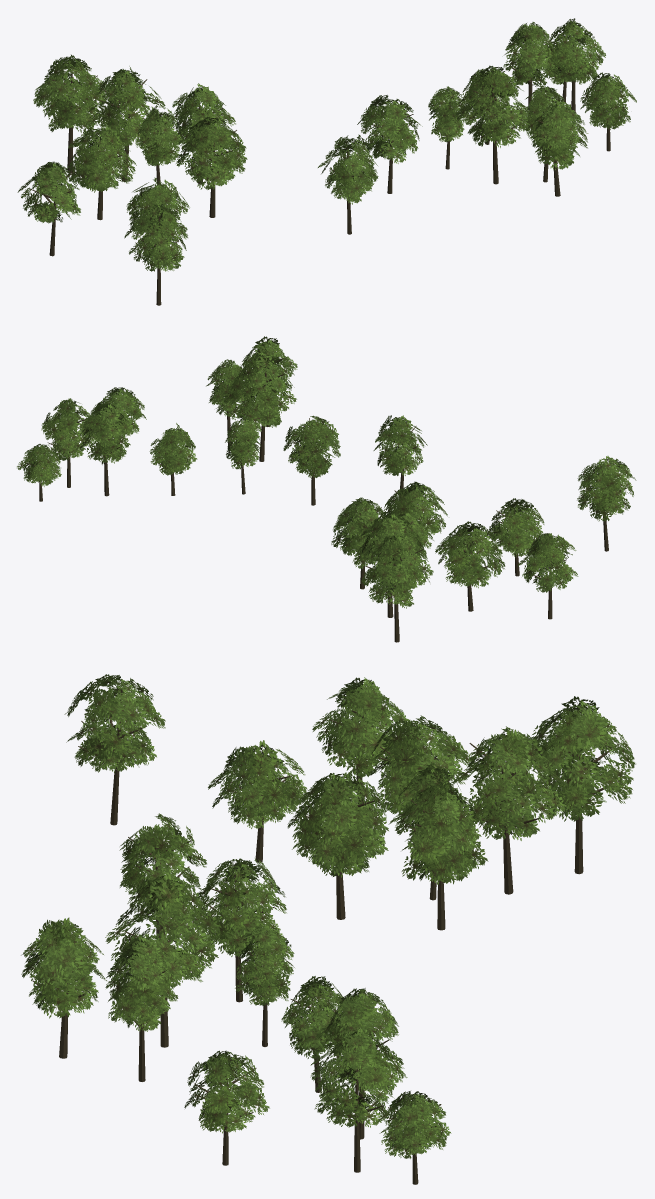
The model's file is TRB8-FOREST-CHUNK-8-5.glb.
3 renders of one model, top to bottom at view 1: azimuth 30°, elevation 25°; view 2: azimuth 150°, elevation 25°; view 3: azimuth 270°, elevation 25°, orthographic. The views are drawn at different scales.
Visible parts, largest first — view 1: TRB8-FOREST-CHUNK-8-5; view 2: TRB8-FOREST-CHUNK-8-5; view 3: TRB8-FOREST-CHUNK-8-5.
Part boxes in pixels (x1,y1,x2,y2): TRB8-FOREST-CHUNK-8-5: [17, 18, 636, 305]; TRB8-FOREST-CHUNK-8-5: [17, 336, 636, 642]; TRB8-FOREST-CHUNK-8-5: [21, 674, 635, 1184].
Bounding box in the file's own units: 29.81 × 7.11 × 18.8.
Materials: 2 (1 with a texture image).
